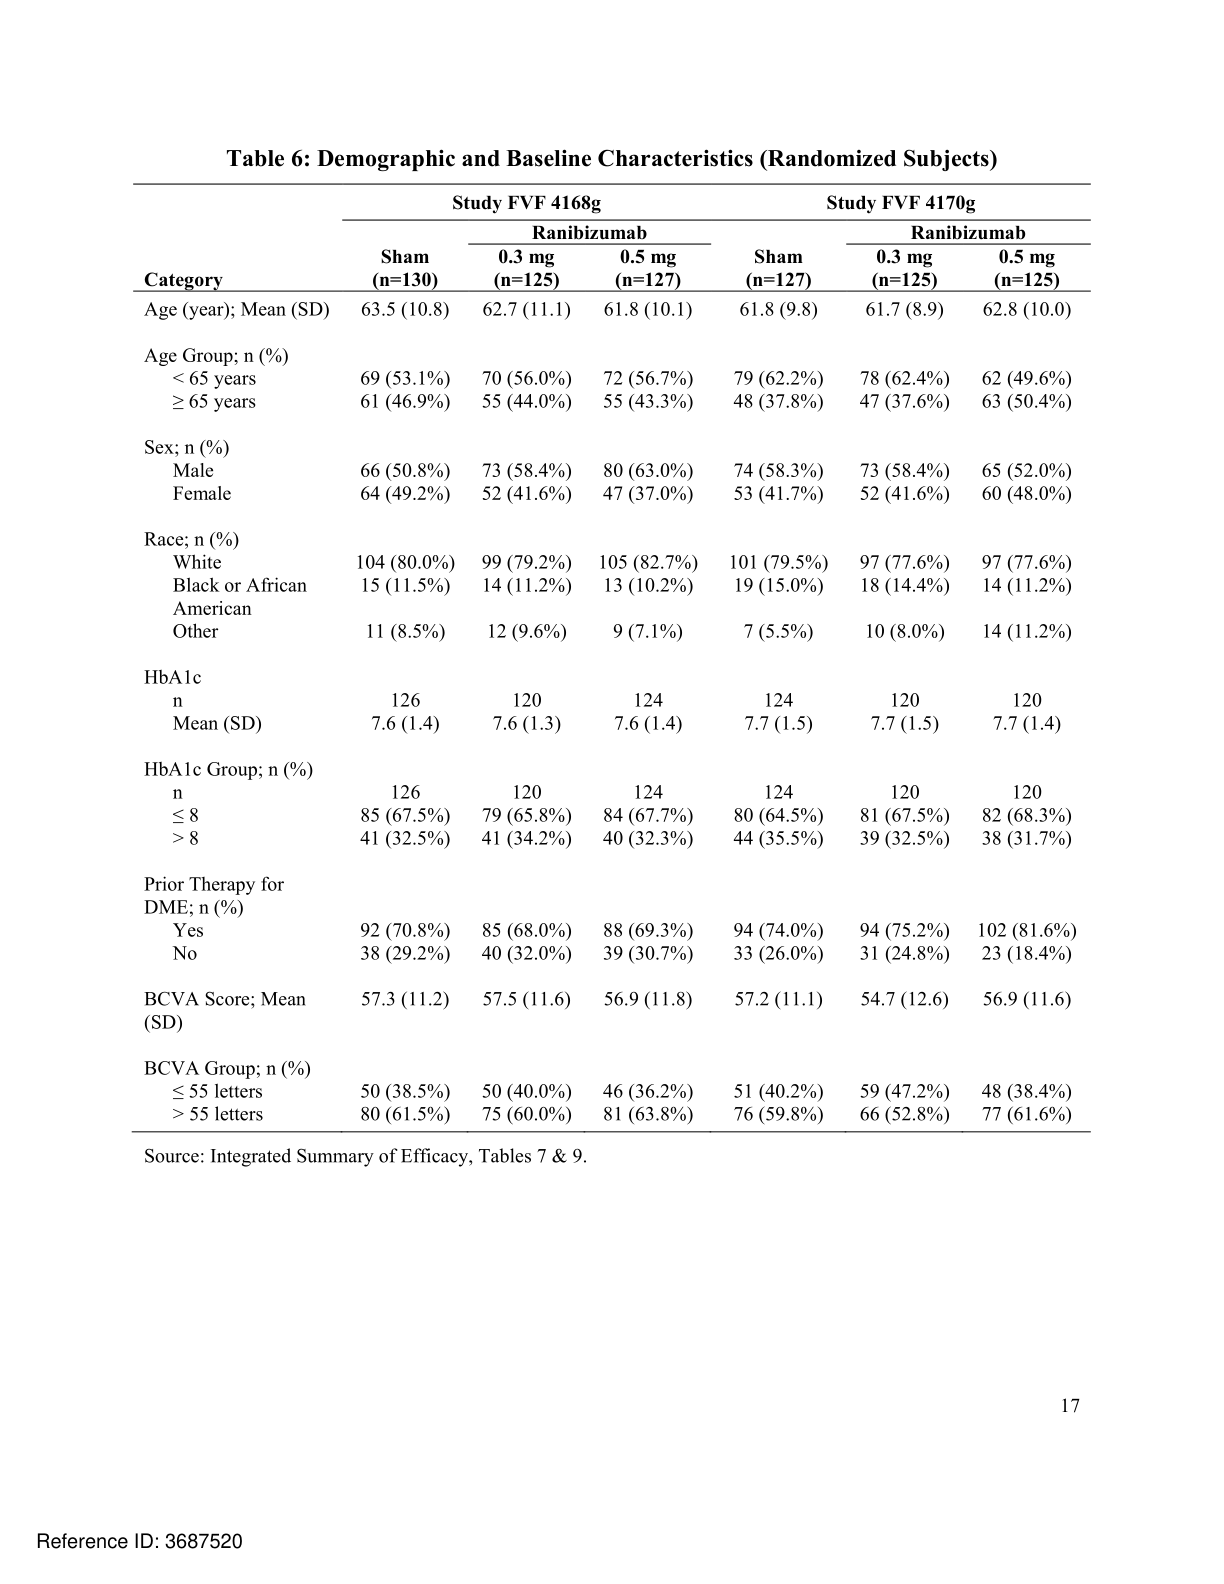partial_lined_merged_cells: (132, 180, 1094, 1137)
